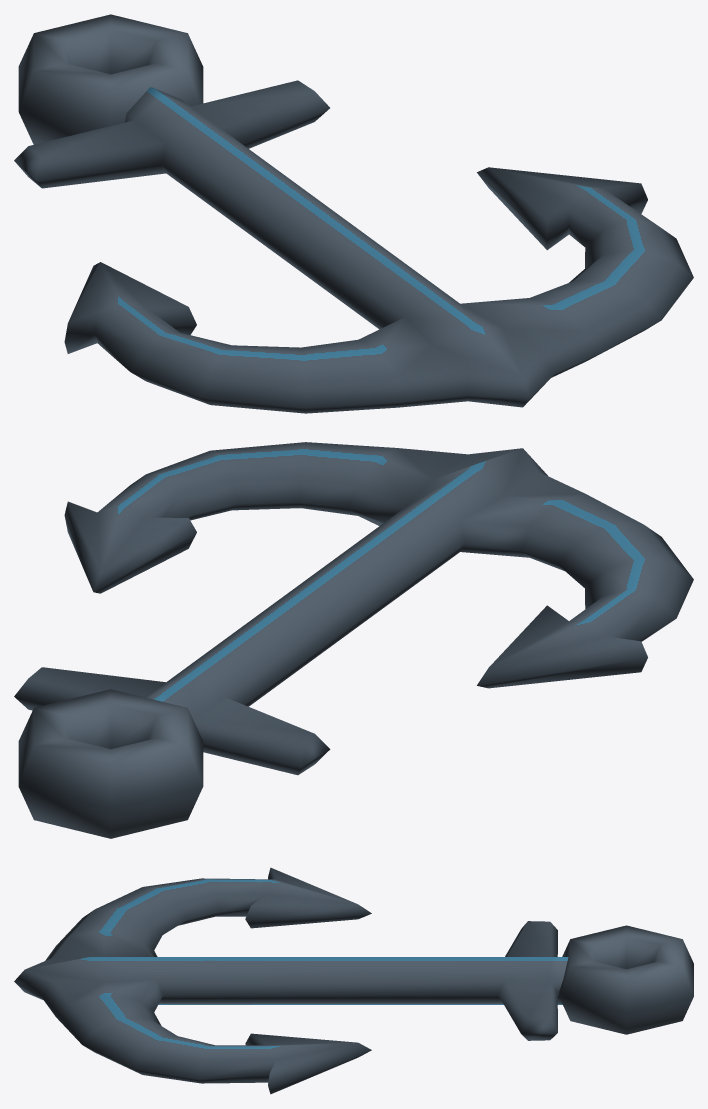
Rendered from Prop_Anchor.fbx.
3 renders of one model, top to bottom at view 1: azimuth 30°, elevation 25°; view 2: azimuth 150°, elevation 25°; view 3: azimuth 270°, elevation 25°, orthographic. The views are drawn at different scales.
Parts seen in each view (by area): view 1: Prop_Anchor; view 2: Prop_Anchor; view 3: Prop_Anchor.
Part boxes in pixels (x1,y1,x2,y2): Prop_Anchor: (14,14,693,413); Prop_Anchor: (14,442,693,838); Prop_Anchor: (14,867,693,1094).
Size of the model in its own units: 281 by 34.29 by 388.
